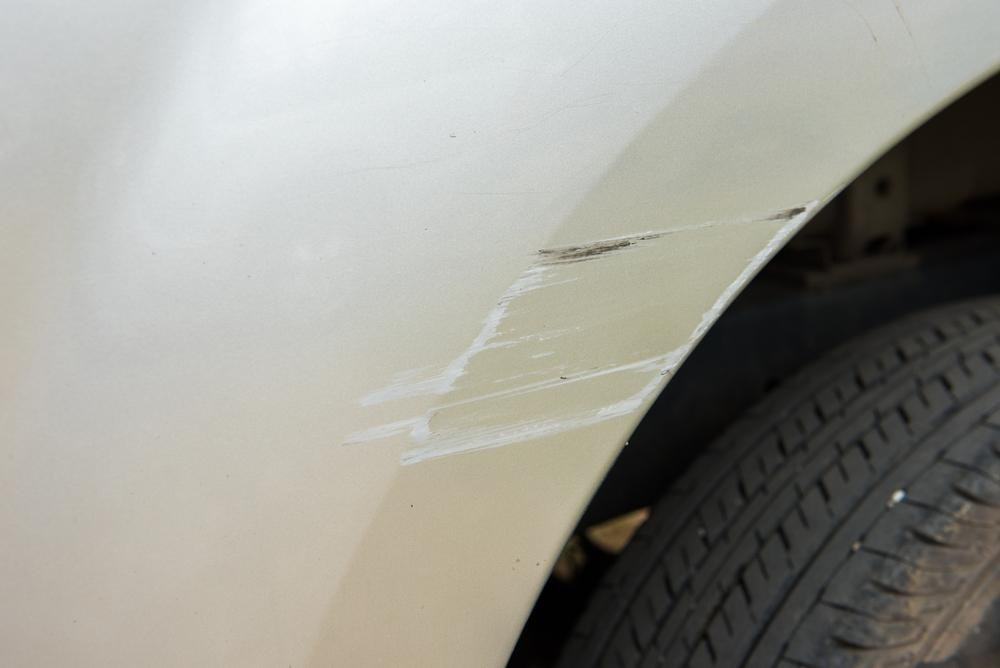scratch: (329, 194, 824, 472)
